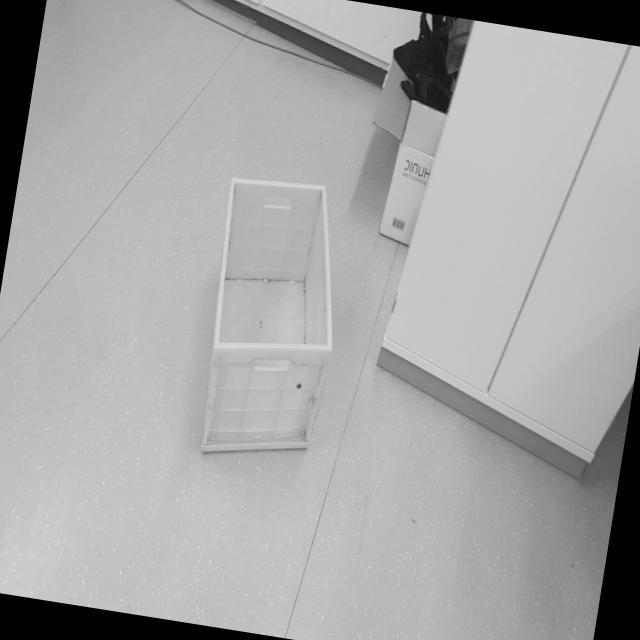box: (181, 148, 364, 489)
